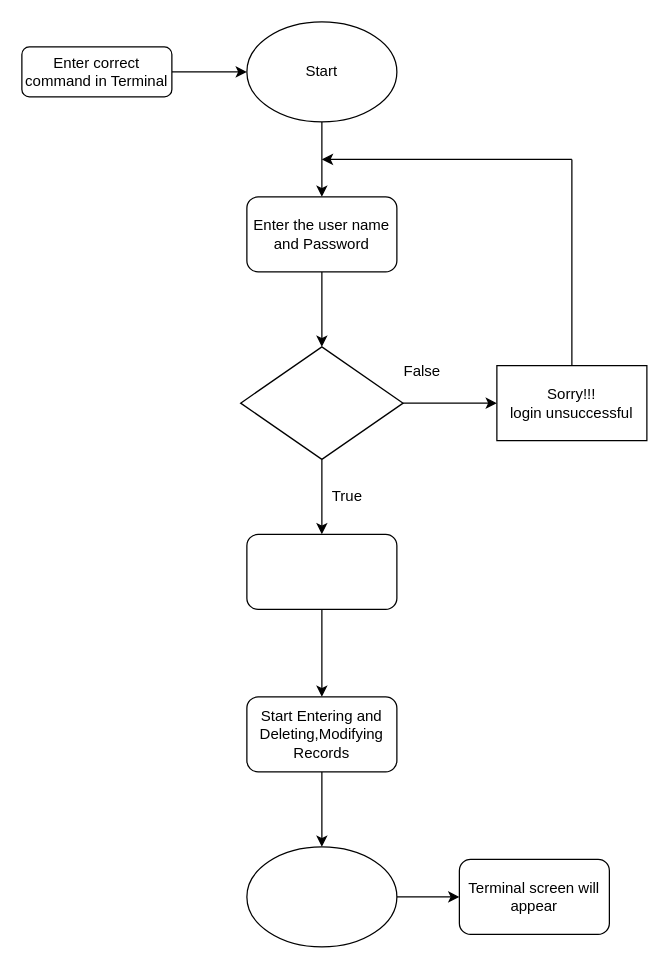
Some shapes in this 669 by 969 pixel diagram are drawn without their labels. The shapes that lost their labels are listed below. From the top down, each one's centre as x and y in pixels, then its label:
At point 321,402: "check login id and Password".
At point 321,571: "login Successful".
At point 321,896: "Exit".
